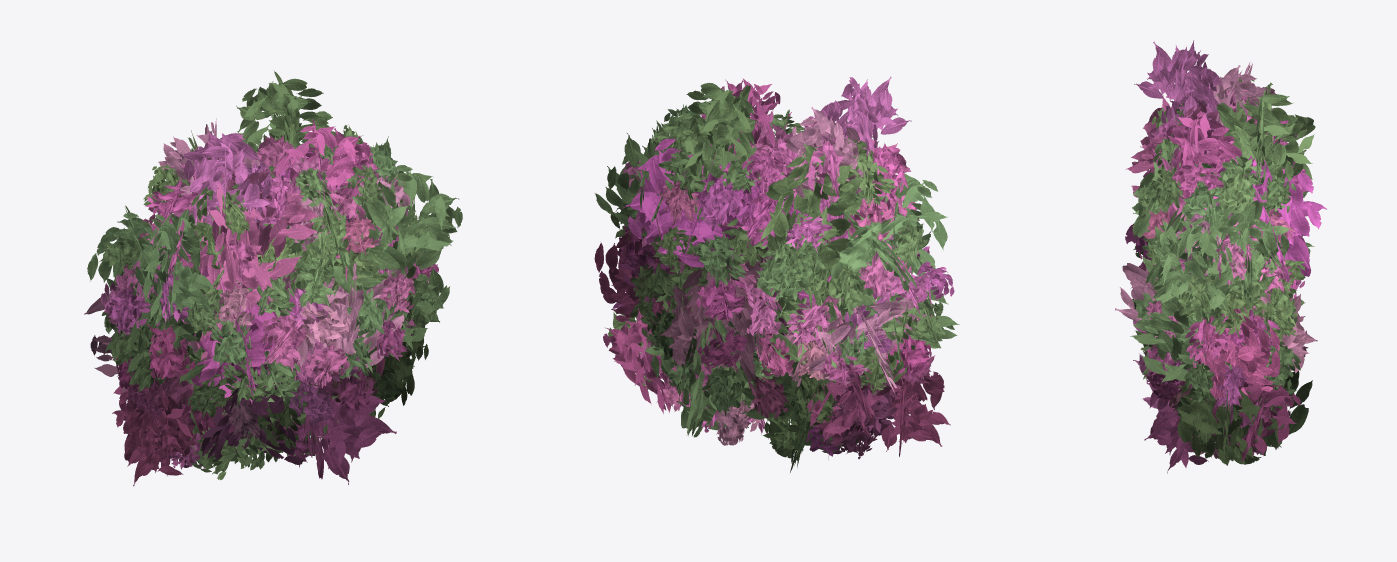
The model's file is buganvilia.glb.
3 views of the same model, side by side, from view 1: azimuth 30°, elevation 25°; view 2: azimuth 150°, elevation 25°; view 3: azimuth 270°, elevation 25° (orthographic).
Visible parts, largest first — view 1: lejos, cerca; view 2: lejos, cerca; view 3: lejos, cerca.
Part boxes in pixels (left/top/right/bottom): lejos: left=84, top=71, right=462, bottom=486; cerca: left=99, top=124, right=438, bottom=473; lejos: left=594, top=76, right=959, bottom=472; cerca: left=610, top=103, right=954, bottom=459; lejos: left=1115, top=40, right=1326, bottom=473; cerca: left=1130, top=75, right=1314, bottom=462.
Size of the model in its own units: 3.24 by 3.49 by 2.19.
Materials: 1 (1 with a texture image).
